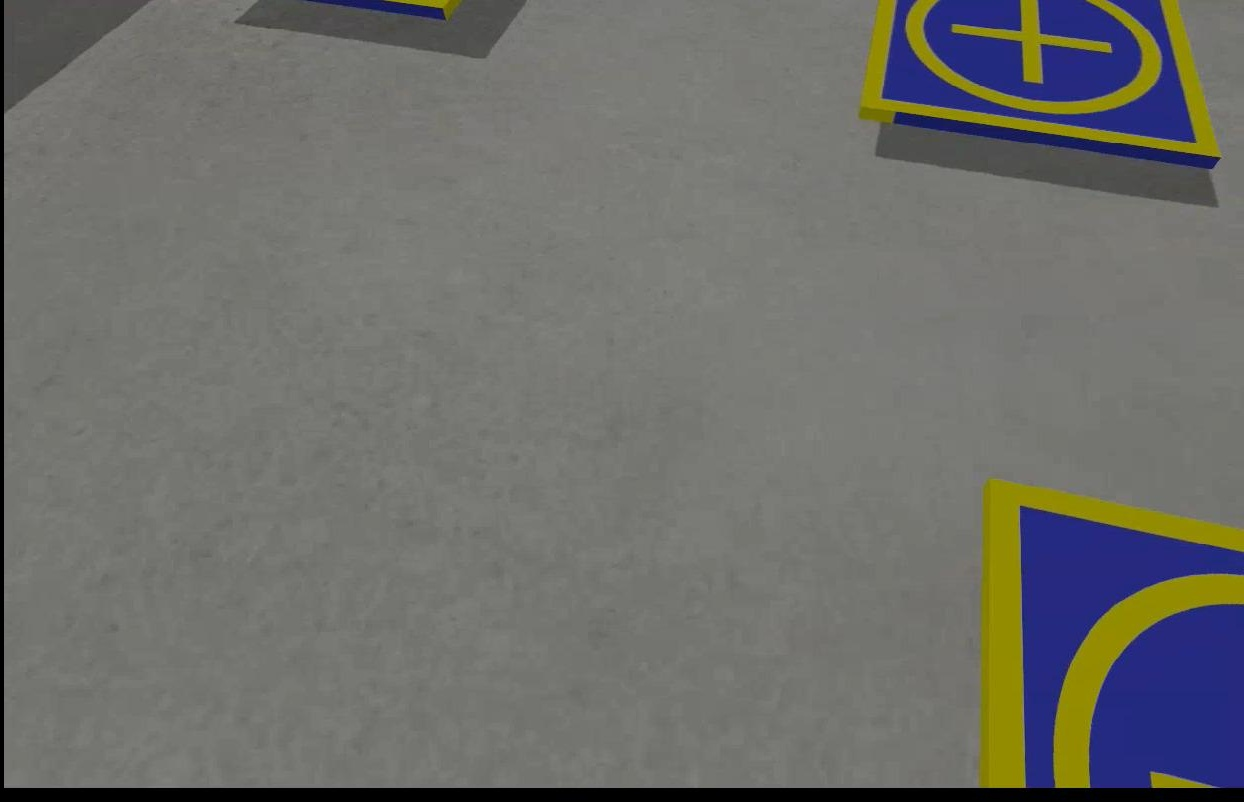small_base: (976, 481, 1242, 788), (854, 1, 1222, 174)
